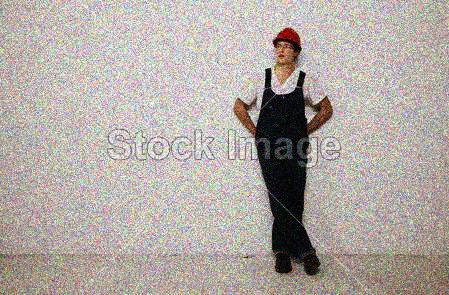helmet: (272, 26, 302, 65)
